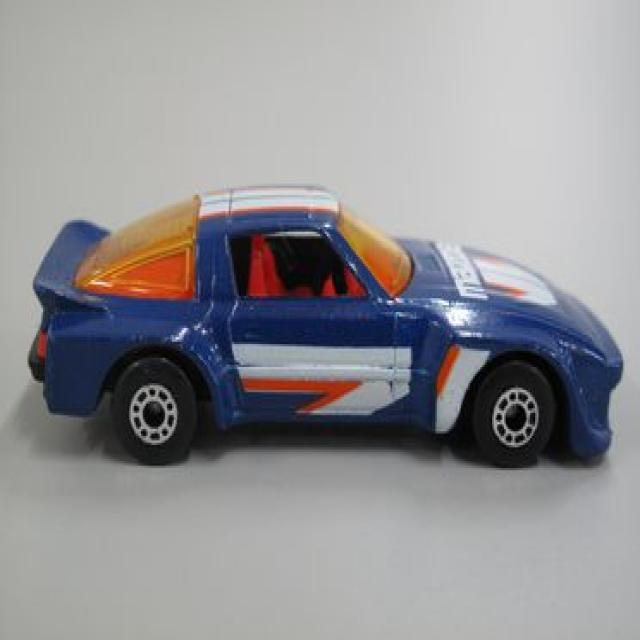Car: (28, 188, 621, 466), (0, 184, 22, 216)
